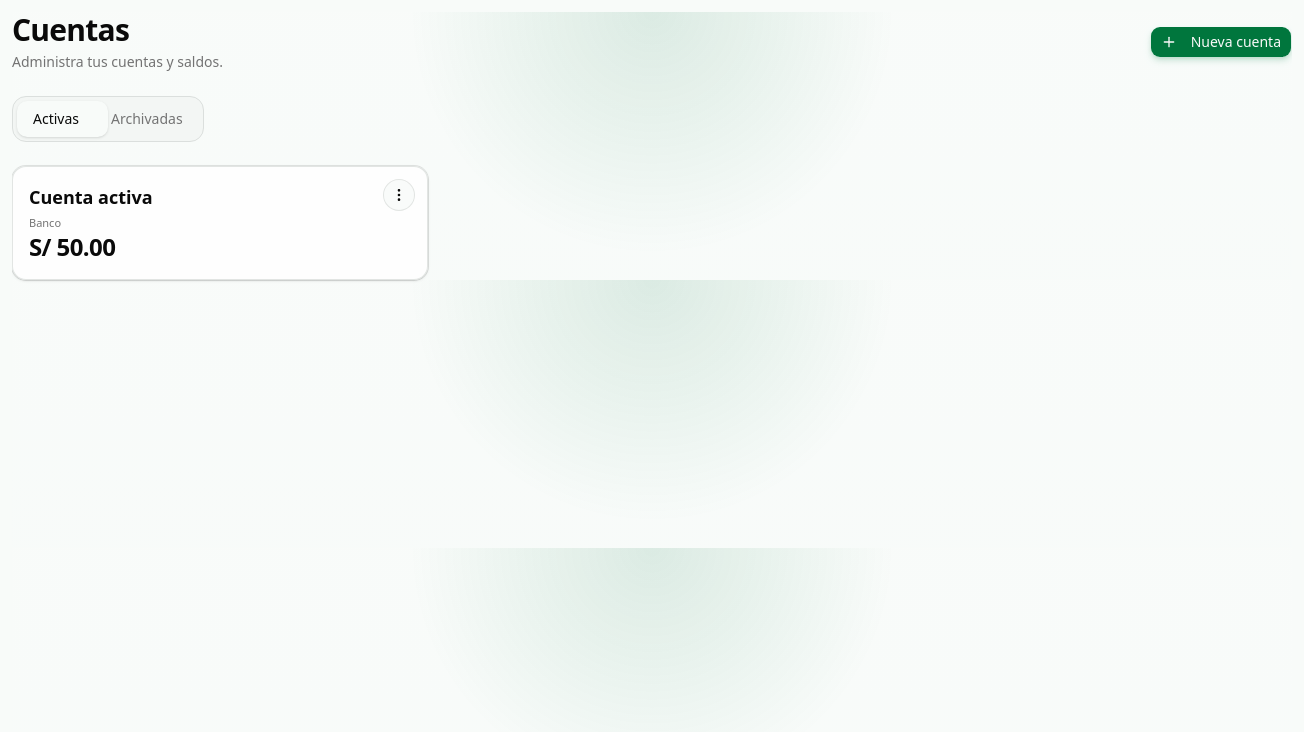
Test: AccountsPage › muestra el saldo recalculado en el aviso
This screenshot has width=1304, height=732.
Click the button named "Acciones de Cuenta activa" at (399, 195), box [383,179,415,211]
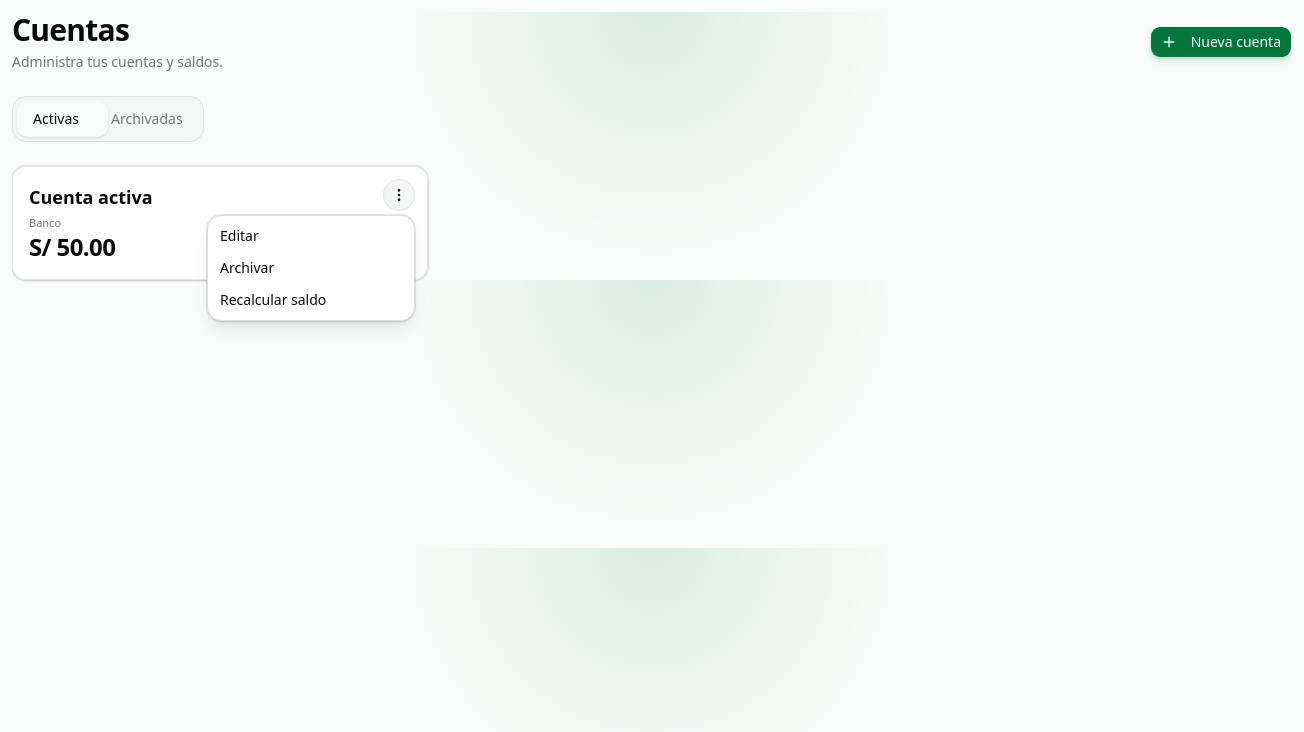
Click the menu item "Recalcular saldo" at (273, 300), box [220,290,326,309]
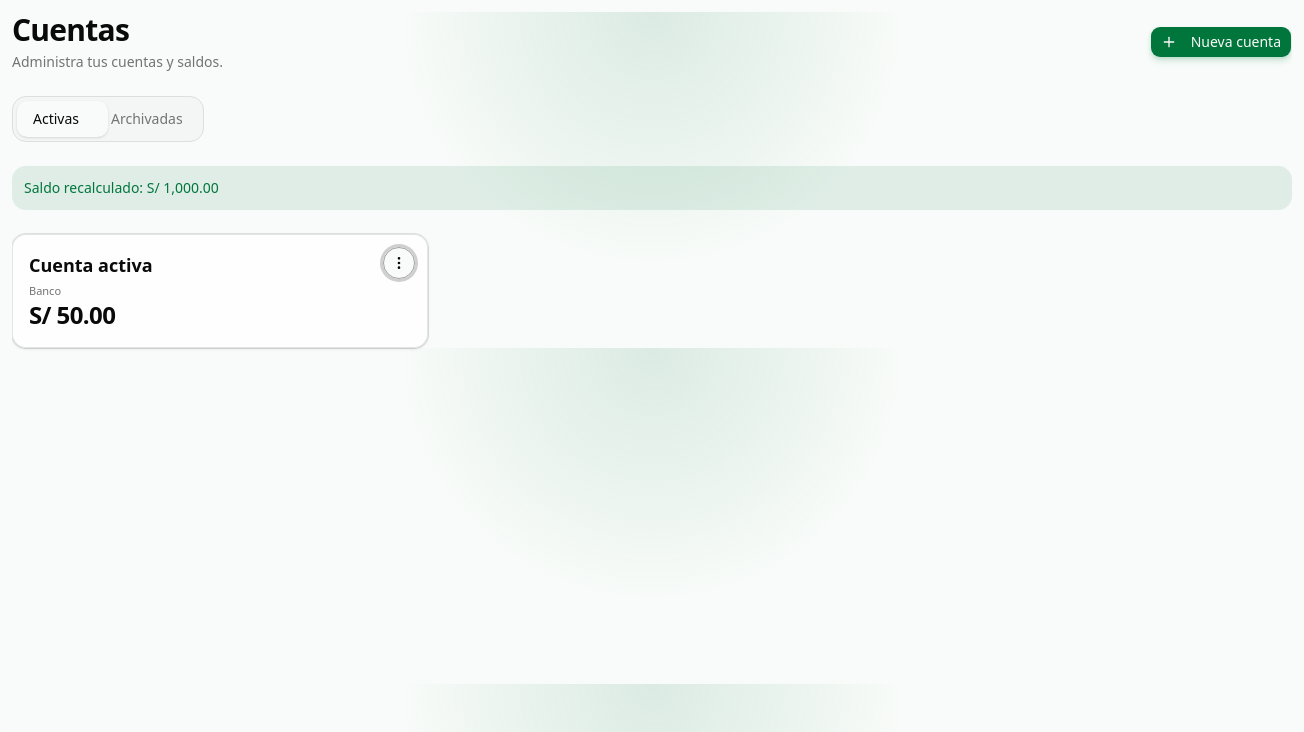
Check: the message reads "Saldo recalculado: S/ 1,000.00", box [24,178,219,197]
